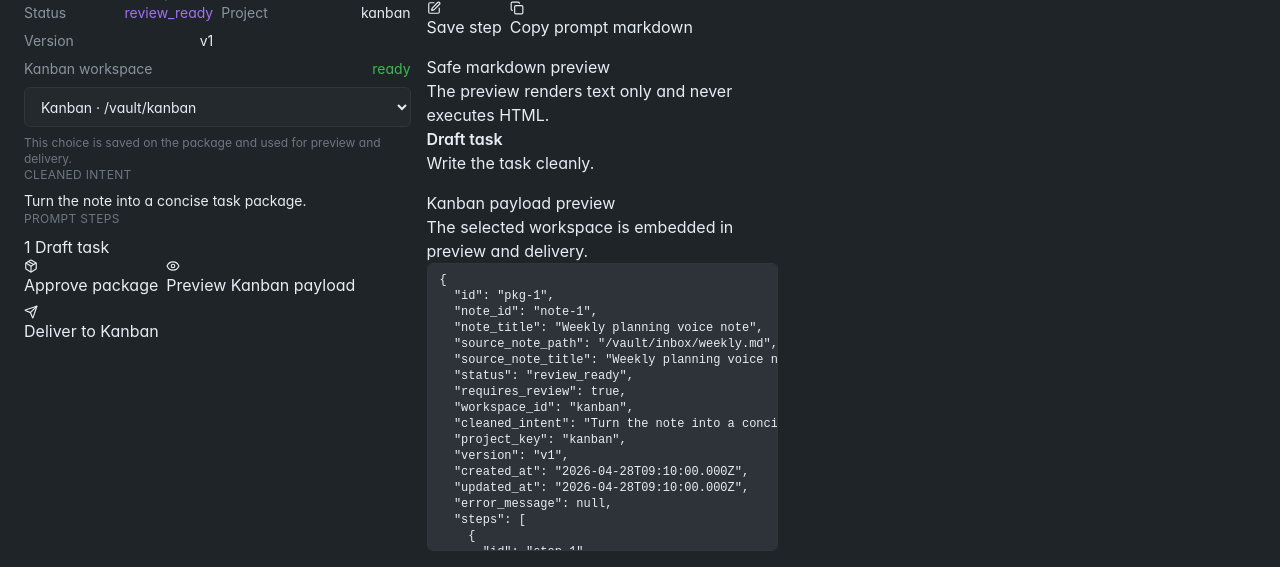
Test: Kanban Prompt Companion UI › previews the Kanban payload
The width and height of the screenshot is (1280, 567).
(page scrolled)
Click the button "Preview Kanban payload": [261, 278] box [166,259,355,297]
(page scrolled)
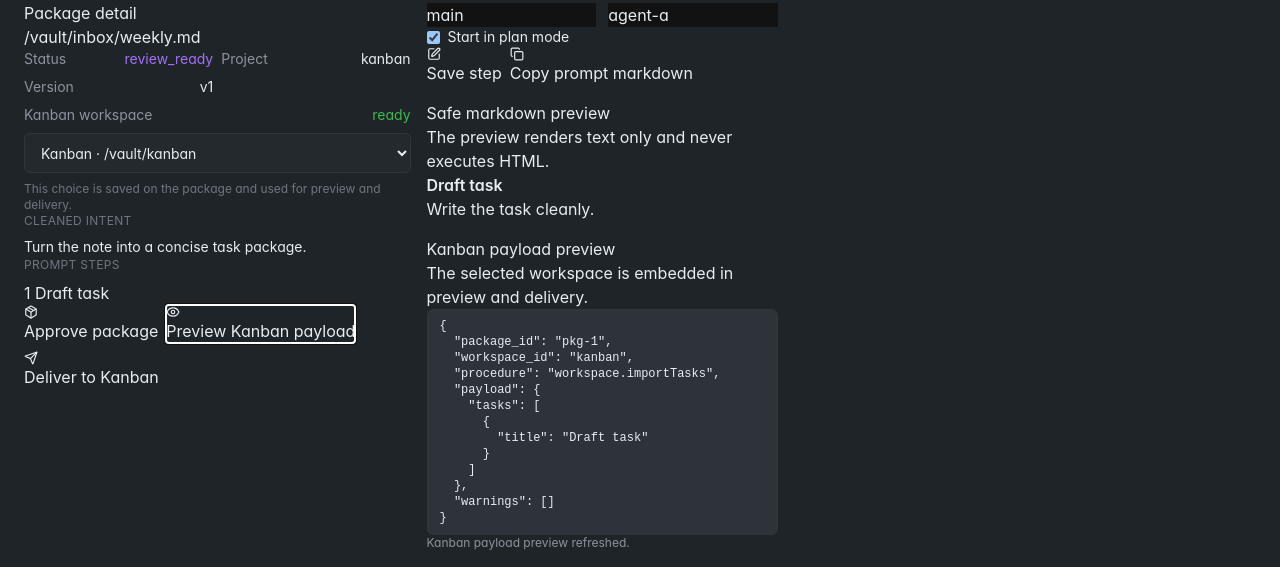
Check: the text "workspace.importTasks" is shown, box [440,319,720,525]
